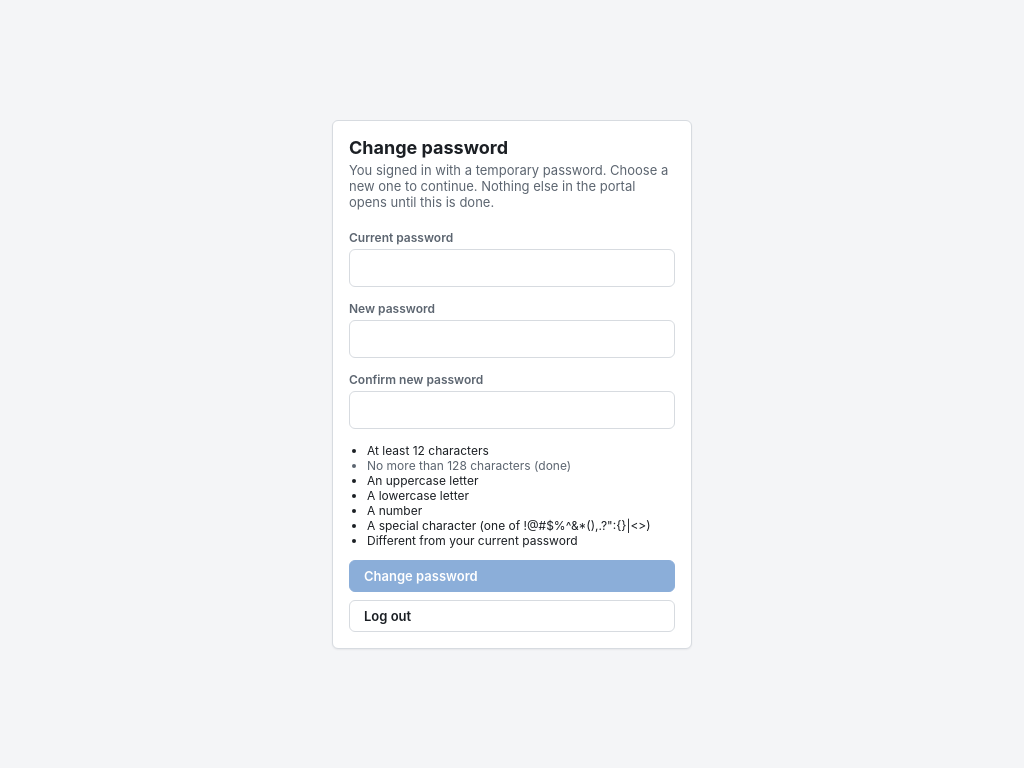
Test: First-login password change › blocks every page until the password is changed, then continues to the page asked for
expect the heading "Change password" is shown: met, box x1=349 y1=136 x2=508 y2=158
expect the link "Alerts" is not shown: met
Type "Temp-Password1!" into the password field labelled "Current password" at (512, 268), box x1=349 y1=248 x2=675 y2=286
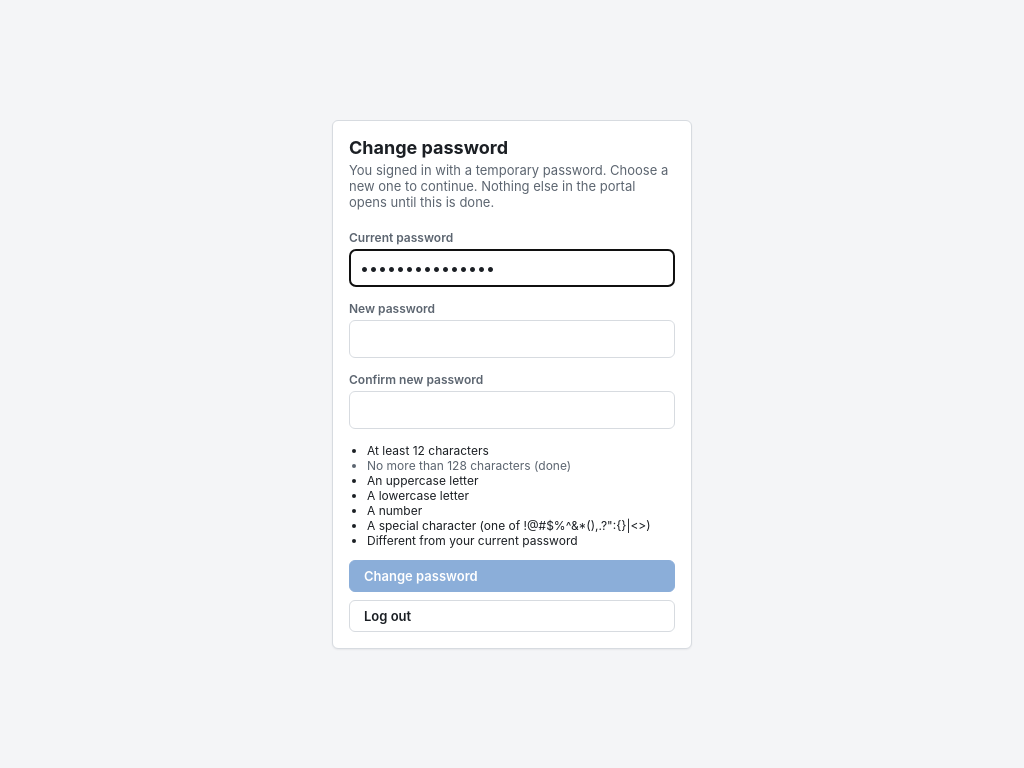
Type "Brand-New-Pass1!" into the password field labelled "New password" at (512, 338), box x1=349 y1=320 x2=675 y2=358
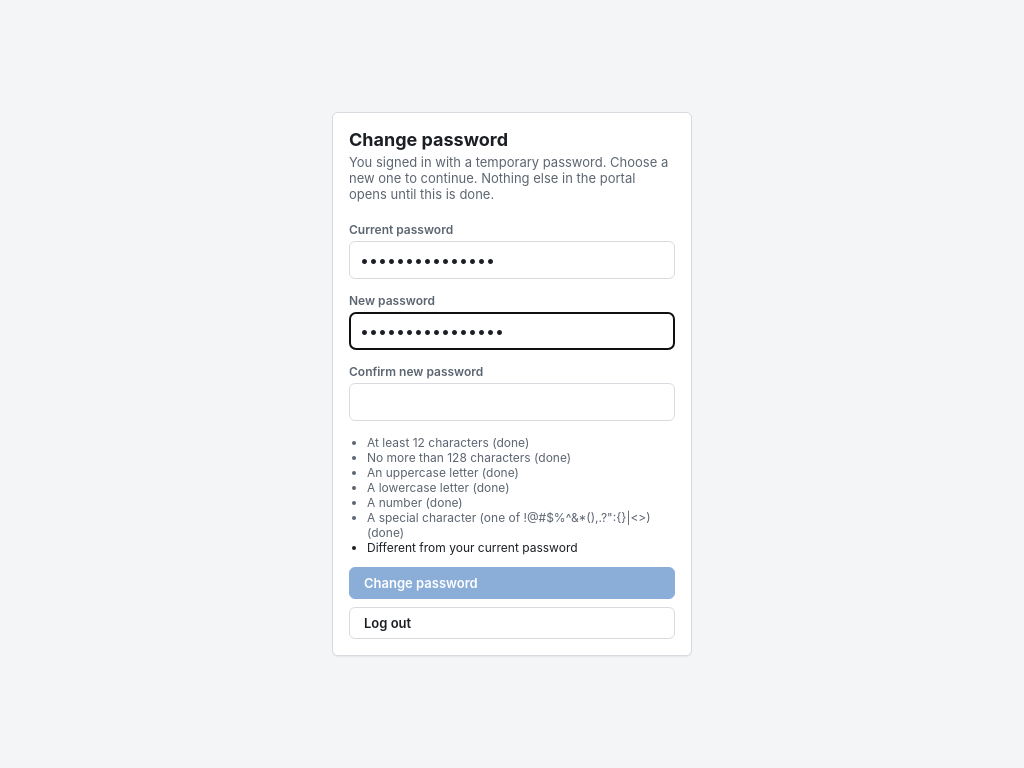
Type "Brand-New-Pass1!" into the password field labelled "Confirm new password" at (512, 402), box x1=349 y1=383 x2=675 y2=421
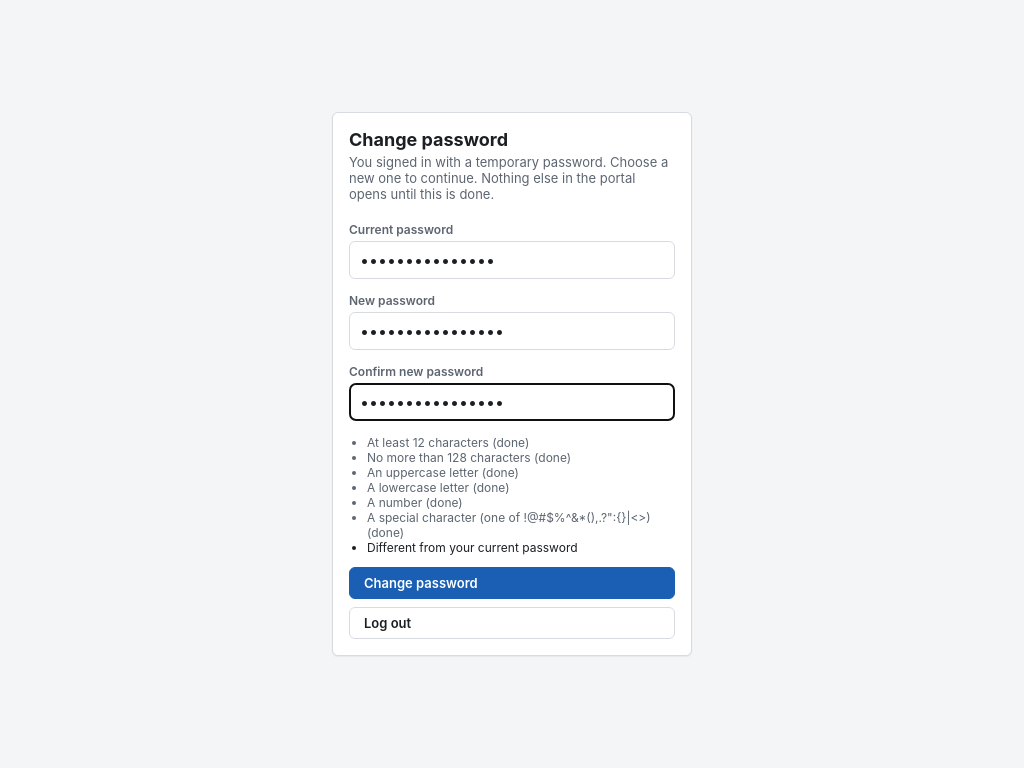
Click the button "Change password" at (421, 583), box x1=349 y1=567 x2=675 y2=599
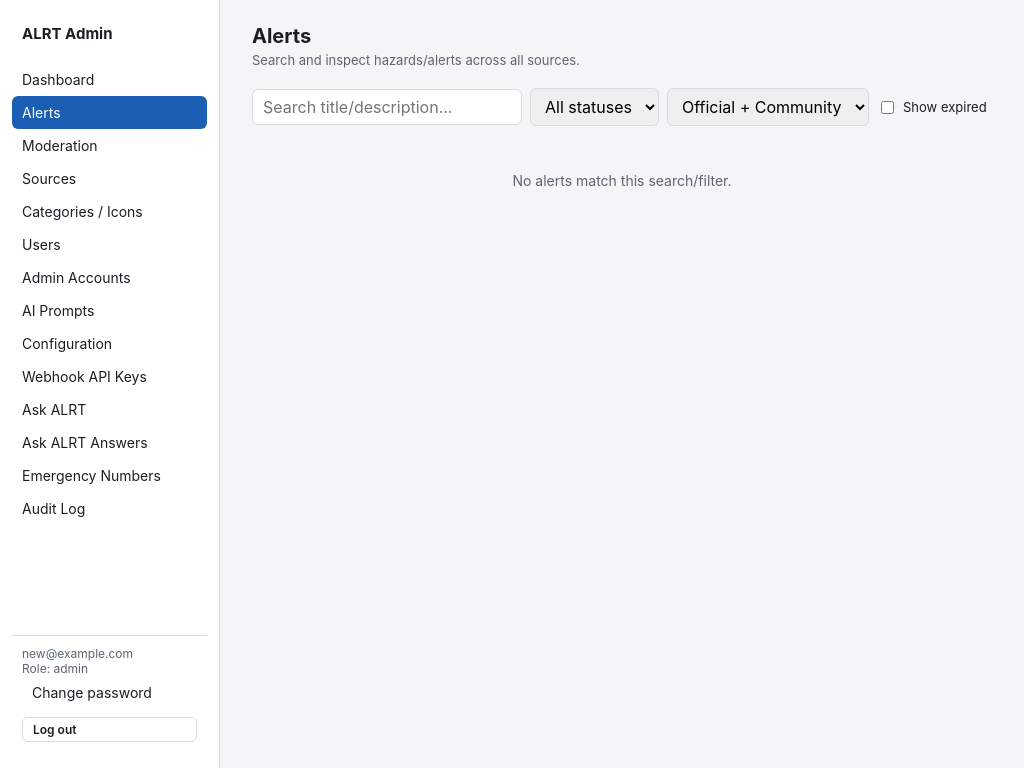
expect the heading "Alerts" is shown: met, box x1=252 y1=24 x2=311 y2=48
